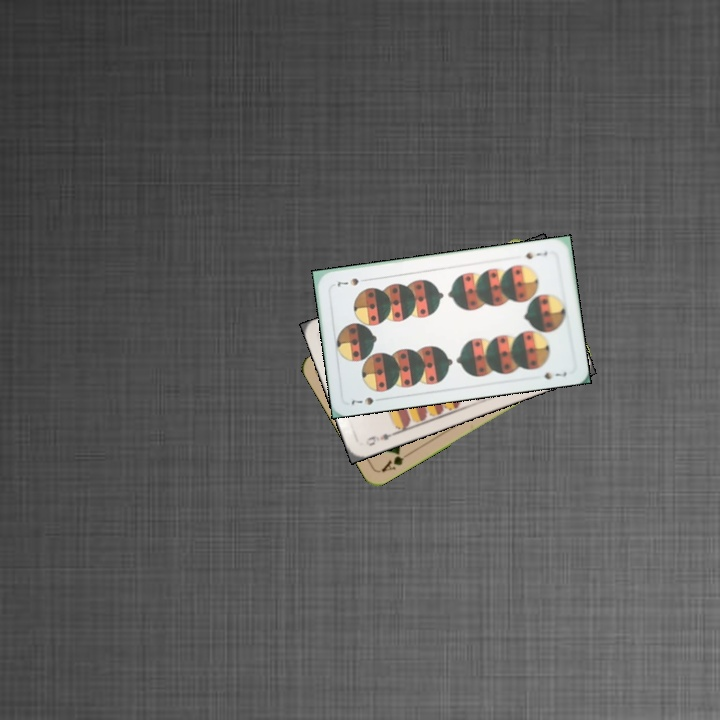E9: (361, 427, 399, 449)
GA: (377, 448, 414, 475)
S7: (519, 247, 550, 262), (347, 393, 376, 408)
